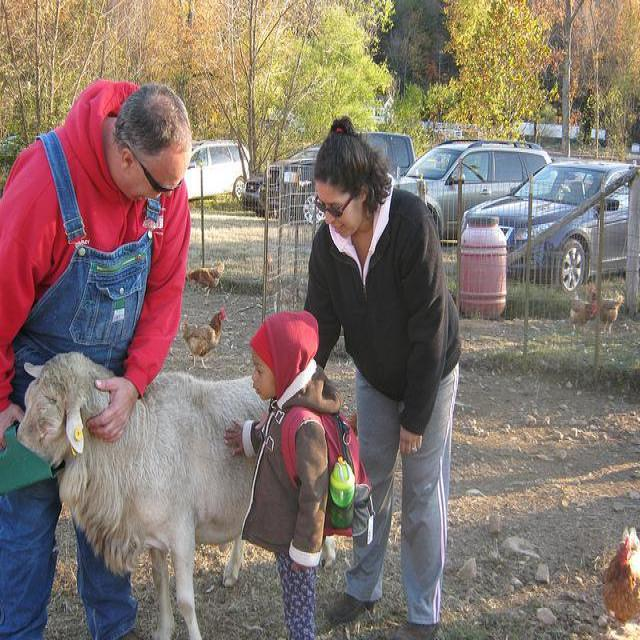Sheep: (18, 354, 269, 634)
